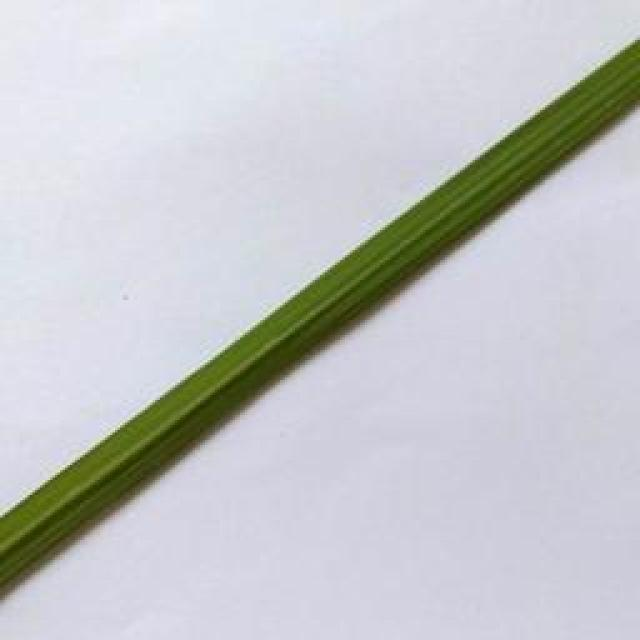Healthy-Plant: (0, 42, 640, 589)
